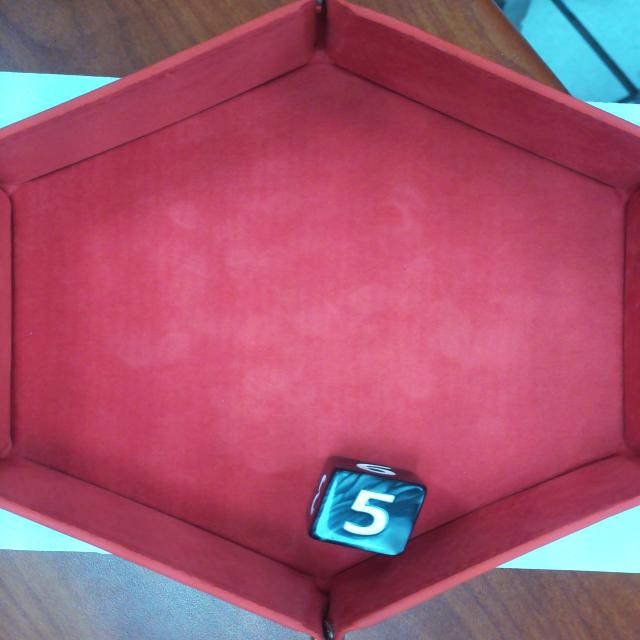dice: (305, 464, 432, 560)
